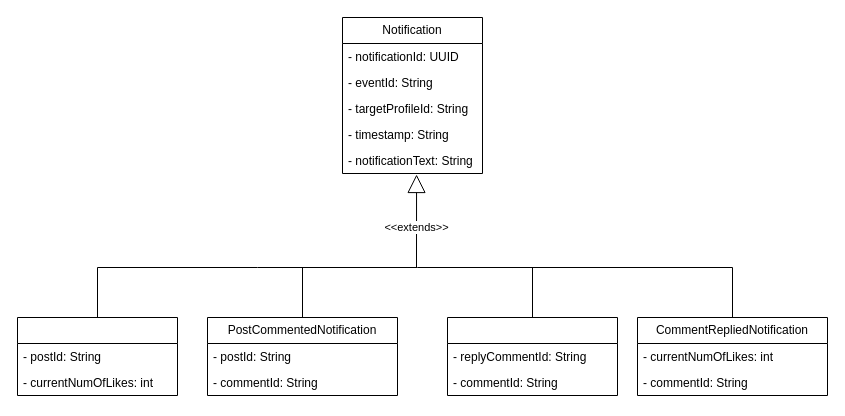
The diagram is 845 pixels wide and 416 high, and some of its shapes have lost their labels. Each missing label, with the box of its shape:
CommentLikedNotification: (446, 316, 618, 396)
PostLikedNotification: (16, 316, 178, 396)
